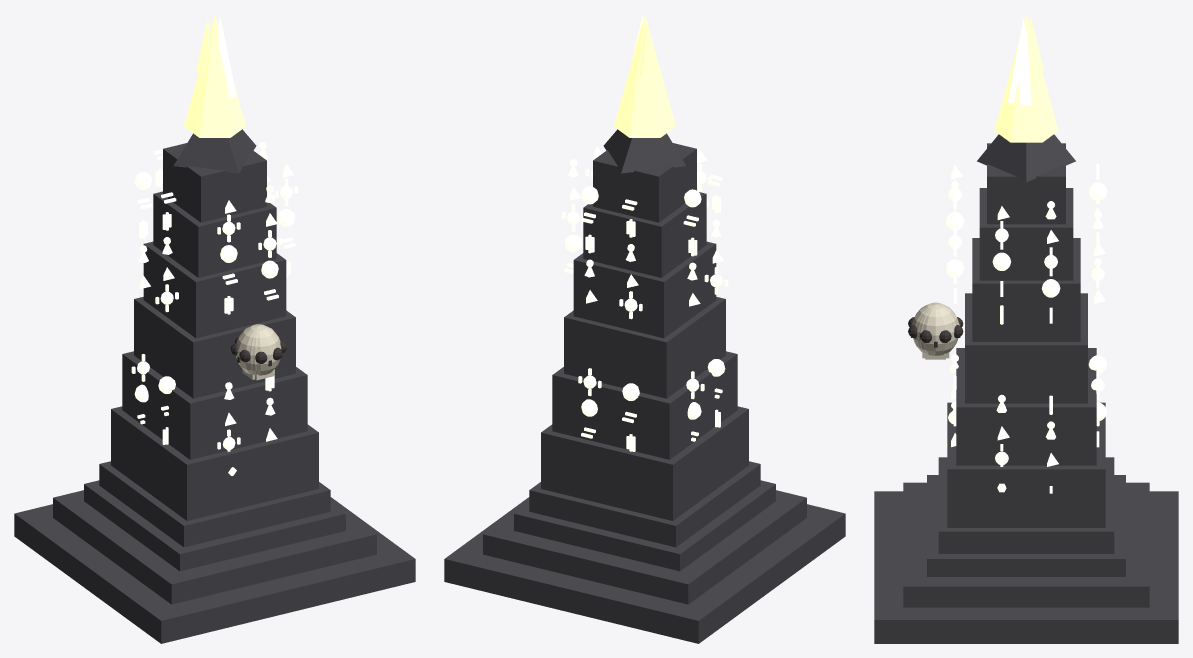
The model's file is HW-001-obelisk-DRAFT.fbx.
3 views of the same model, side by side, from view 1: azimuth 30°, elevation 25°; view 2: azimuth 150°, elevation 25°; view 3: azimuth 270°, elevation 25° (orthographic). The views are drawn at different scales.
Parts seen in each view (by area): view 1: Base0, Shaft_1, Base1, Shaft_2, Shaft_4, Shaft_3, Base2, Shaft_0, Shaft_5, Shaft_6, FireA, Cap (+2 smaller); view 2: Base0, Shaft_1, Base1, Shaft_2, Shaft_3, Shaft_4, Base2, Shaft_0, Shaft_5, Shaft_6, FireA, Cap (+1 smaller); view 3: Base0, Base1, Shaft_1, Shaft_2, Shaft_3, Shaft_4, Base2, Shaft_0, Shaft_5, Shaft_6, FireA, Cap (+3 smaller).
Part boxes in pixels (left/top/right/bottom): Base0: left=14, top=497, right=415, bottom=643; Shaft_1: left=111, top=406, right=318, bottom=520; Base1: left=53, top=490, right=376, bottom=604; Shaft_2: left=122, top=351, right=307, bottom=459; Shaft_4: left=143, top=241, right=286, bottom=338; Shaft_3: left=134, top=297, right=295, bottom=398; Base2: left=84, top=480, right=345, bottom=571; Shaft_0: left=99, top=461, right=330, bottom=547; Shaft_5: left=153, top=191, right=276, bottom=277; Shaft_6: left=163, top=143, right=266, bottom=222; FireA: left=184, top=15, right=245, bottom=137; Cap: left=173, top=129, right=256, bottom=173; Base0: left=444, top=497, right=845, bottom=643; Shaft_1: left=541, top=406, right=748, bottom=520; Base1: left=483, top=490, right=806, bottom=604; Shaft_2: left=552, top=351, right=737, bottom=459; Shaft_3: left=564, top=297, right=725, bottom=398; Shaft_4: left=573, top=241, right=716, bottom=338; Base2: left=514, top=480, right=775, bottom=571; Shaft_0: left=529, top=461, right=760, bottom=547; Shaft_5: left=583, top=192, right=706, bottom=277; Shaft_6: left=593, top=143, right=696, bottom=222; FireA: left=614, top=15, right=675, bottom=137; Cap: left=603, top=129, right=686, bottom=173; Base0: left=874, top=491, right=1178, bottom=643; Base1: left=903, top=482, right=1149, bottom=607; Shaft_1: left=947, top=402, right=1105, bottom=527; Shaft_2: left=956, top=348, right=1096, bottom=465; Shaft_3: left=965, top=293, right=1087, bottom=403; Shaft_4: left=972, top=238, right=1080, bottom=341; Base2: left=927, top=475, right=1125, bottom=576; Shaft_0: left=938, top=457, right=1114, bottom=553; Shaft_5: left=979, top=188, right=1073, bottom=280; Shaft_6: left=987, top=143, right=1065, bottom=224; FireA: left=994, top=14, right=1058, bottom=142; Cap: left=977, top=134, right=1075, bottom=182.
Size of what is drawn, in the model's own units: 520 by 1066 by 520.
